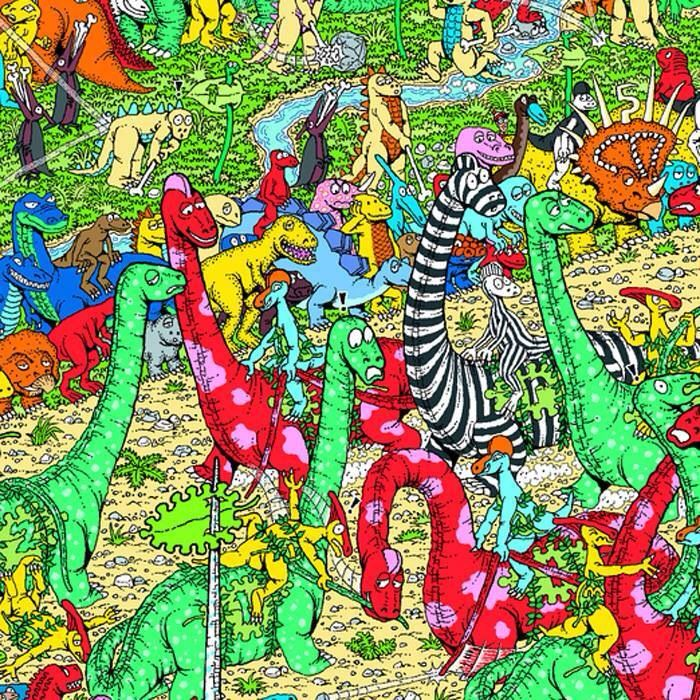waldos: (488, 108, 511, 137)
